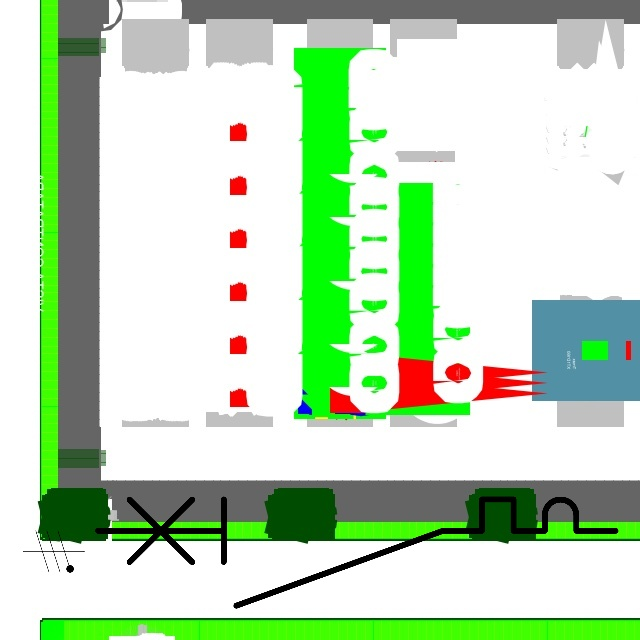interruptor_termomagnetico: (84, 486, 628, 619)
